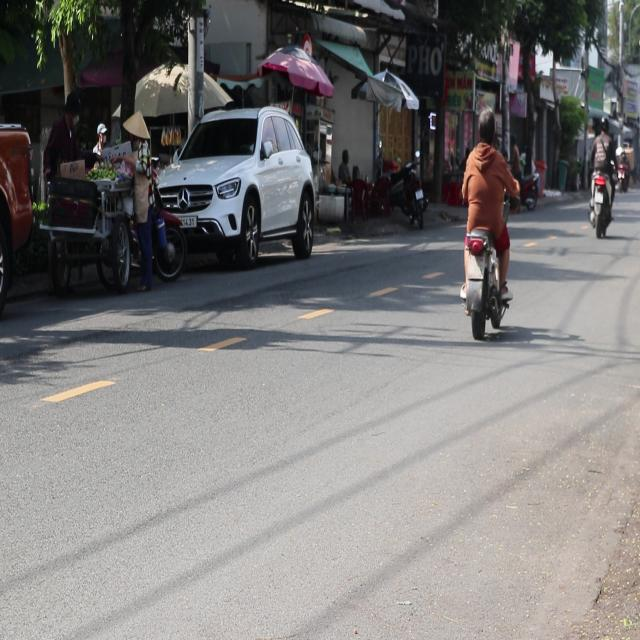licenseplate: (457, 105, 517, 339)
motorcyclist: (476, 107, 496, 145)
nohelmet: (468, 256, 484, 279)
